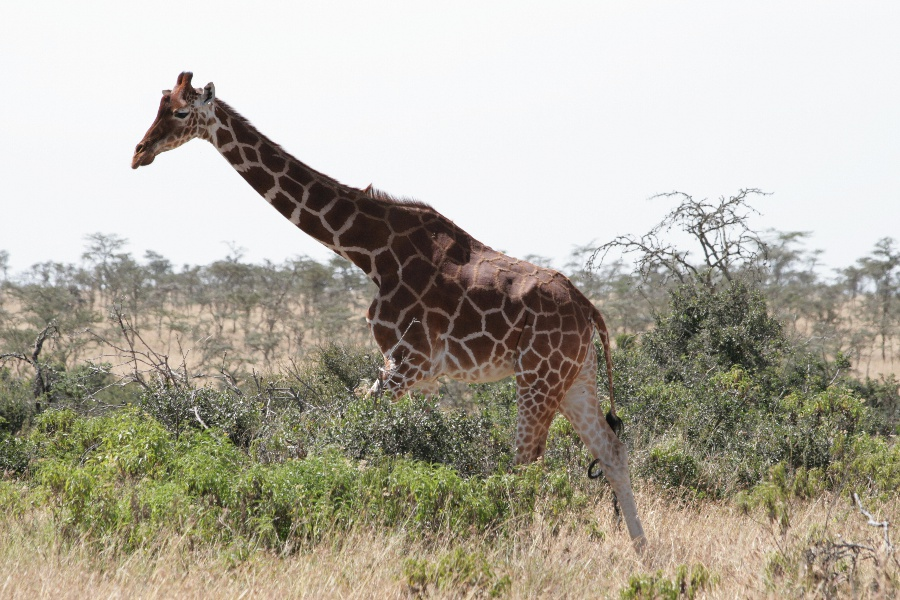giraffe: (125, 65, 657, 546)
